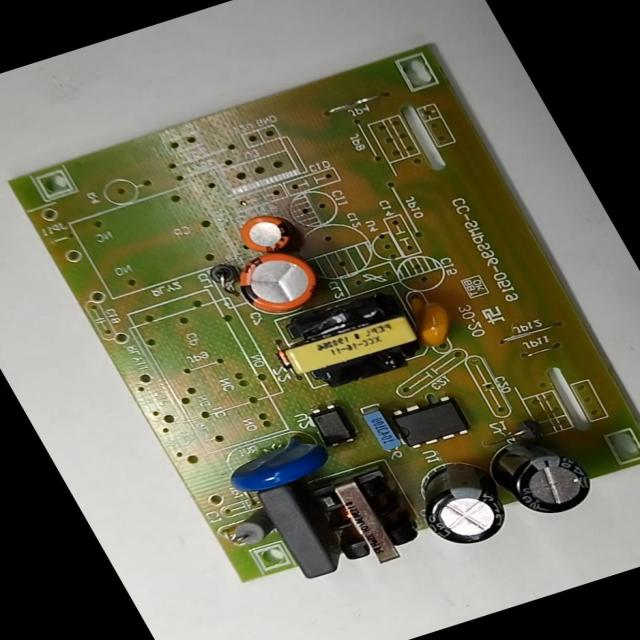Cap1: (220, 238, 338, 326)
Cap2: (228, 206, 304, 262)
Cap3: (397, 451, 529, 558)
Cap4: (473, 422, 610, 533)
MOSFET: (379, 388, 480, 457)
Mov: (212, 426, 341, 504)
Resistor: (220, 506, 284, 553)
Transformer: (261, 279, 440, 404), (300, 458, 436, 576)
